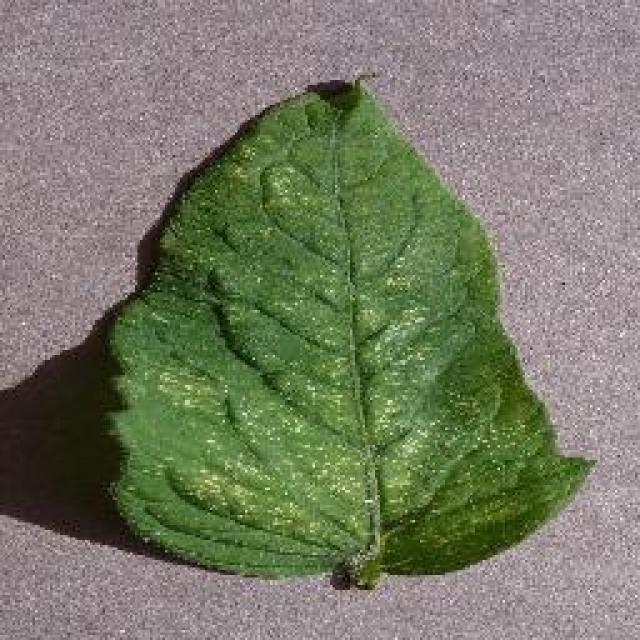Tomato mosaic virus leaf: (78, 66, 600, 579)
